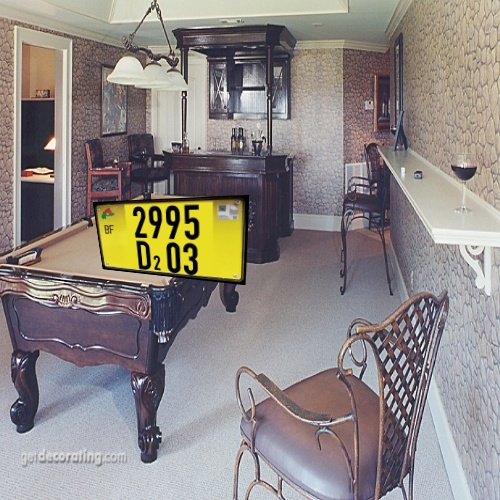plate: (81, 188, 263, 314)
